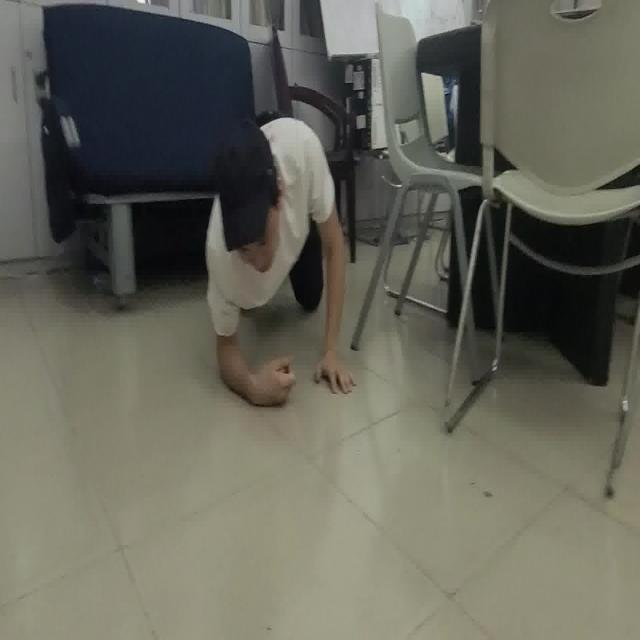fall: (202, 111, 362, 416)
